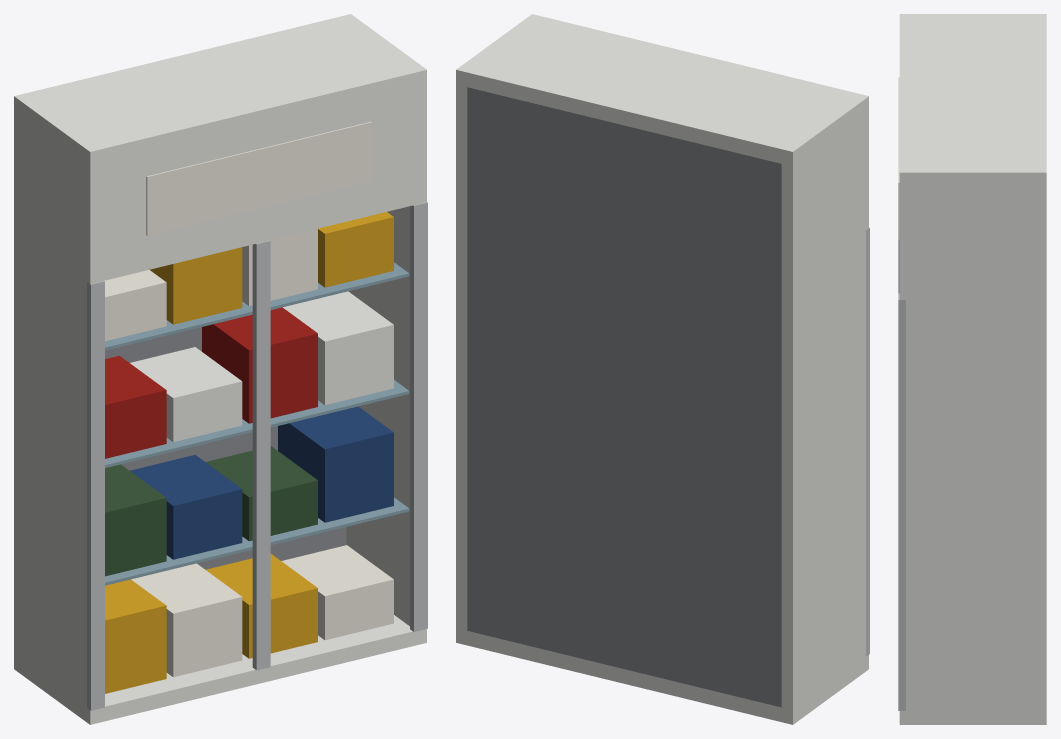
File: medicine_cabinet.glb
The picture shows the model from 3 angles, left to right: view 1: azimuth 30°, elevation 25°; view 2: azimuth 150°, elevation 25°; view 3: azimuth 270°, elevation 25°; orthographic projection. The views are drawn at different scales.
Parts seen in each view (by area): view 1: medicine_cabinet; view 2: medicine_cabinet; view 3: medicine_cabinet.
Part boxes in pixels (left/top/right/bottom): medicine_cabinet: left=14, top=14, right=427, bottom=724; medicine_cabinet: left=456, top=14, right=869, bottom=724; medicine_cabinet: left=898, top=14, right=1046, bottom=724.
Bounding box in the file's own units: 1.2 × 1.95 × 0.475.
Materials: 1 (1 with a texture image).
